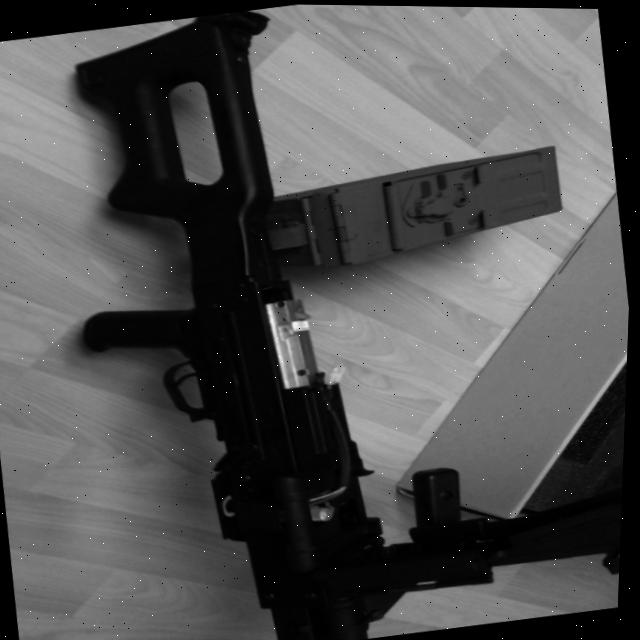firearm: (33, 1, 515, 640)
